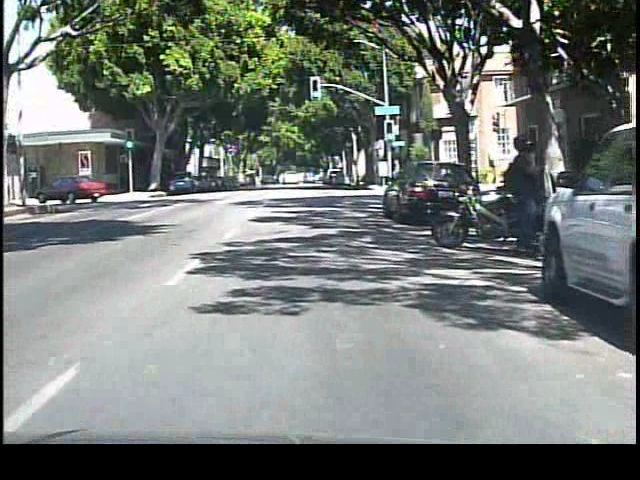person: (498, 128, 541, 265), (387, 154, 404, 190)
